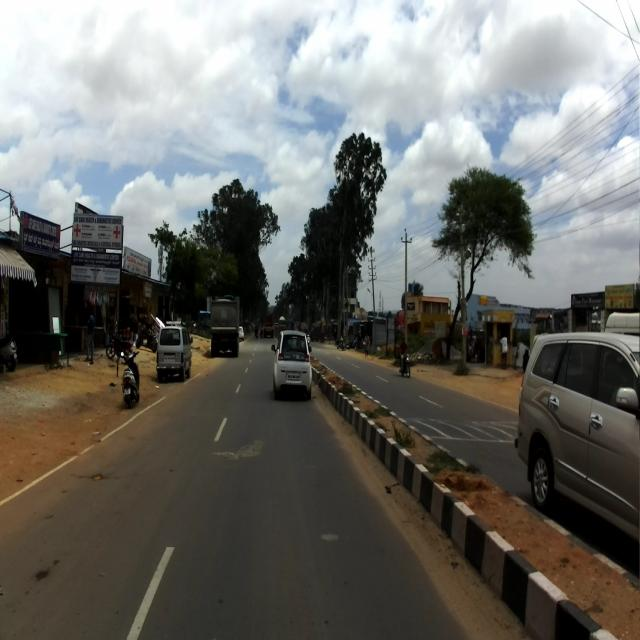Car_Mahindra: (271, 322, 321, 404)
Car_Maruti-Suzuki: (154, 322, 196, 382)
Car_Toyota: (513, 331, 640, 548)
scooter: (118, 349, 144, 406)
